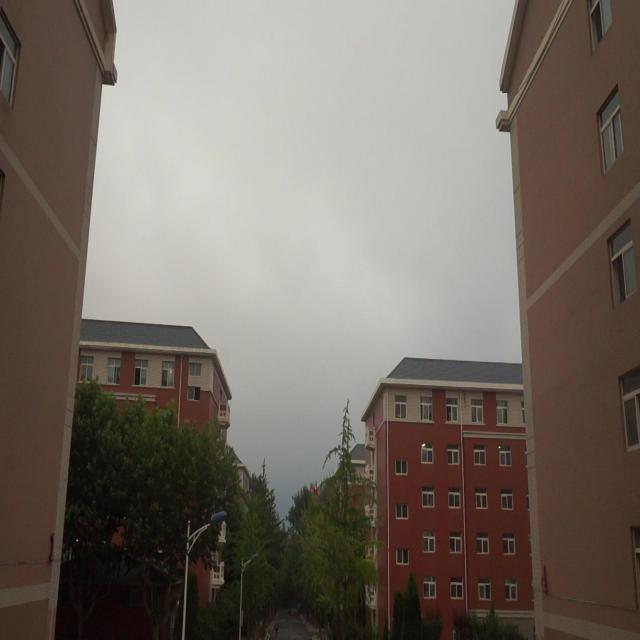UAV: (311, 486, 320, 497)
